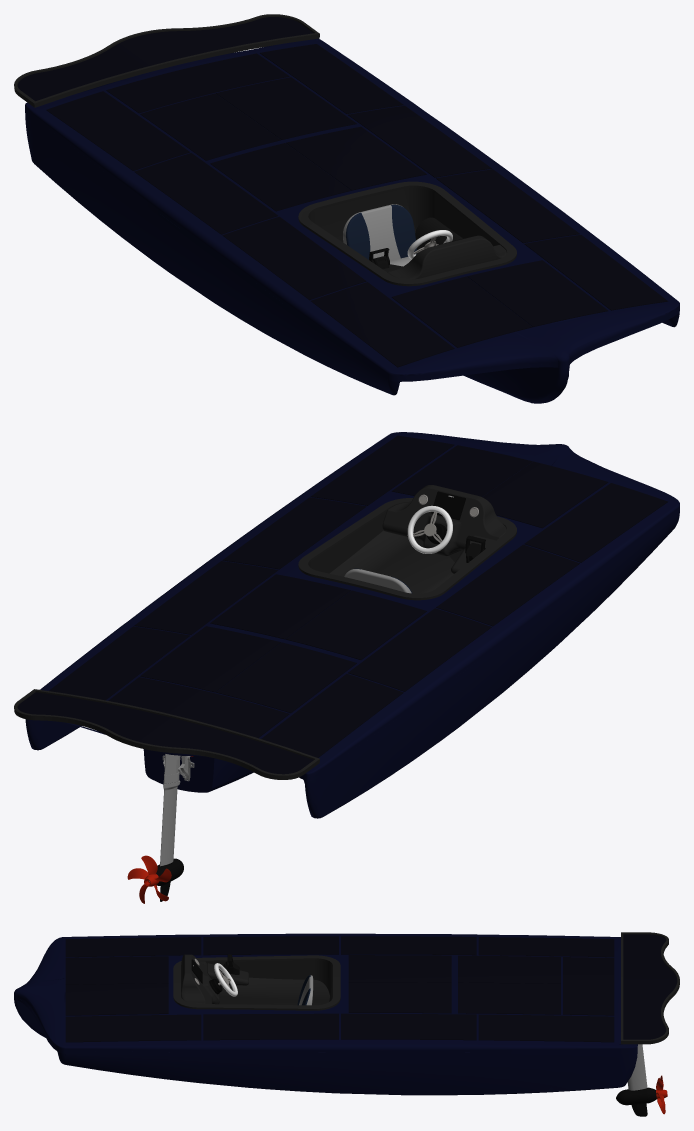
File: boat.obj
The picture shows the model from 3 angles, top to bottom: view 1: azimuth 30°, elevation 25°; view 2: azimuth 150°, elevation 25°; view 3: azimuth 270°, elevation 25°; orthographic projection. The views are drawn at different scales.
Visible parts, largest first — view 1: POWERboat_V5.010, POWERboat_V5.011, Cockpit.001, Solar_Spoiler.003, Solar_Panels005.003, Solar_Panels013.003, Solar_Panels004.003, Solar_Panels002.005, Solar_Panels012.003, Solar_Panels003.004, Solar_Panels010.003, Solar_Panels006.003 (+10 smaller); view 2: POWERboat_V5.010, POWERboat_V5.011, Cockpit.001, Solar_Spoiler.003, Solar_Panels012.003, Solar_Panels004.003, Solar_Panels013.003, Solar_Panels010.003, Solar_Panels005.003, Solar_Panels003.004, Solar_Panels014.003, Solar_Panels011.003 (+13 smaller); view 3: POWERboat_V5.011, POWERboat_V5.010, Cockpit.001, Solar_Spoiler.003, Solar_Panels.003, Solar_Panels009.003, Solar_Panels001.003, Solar_Panels008.003, Solar_Panels006.003, Solar_Panels007.005, Solar_Panels014.003, Solar_Panels011.003 (+14 smaller).
Boxes of the visible parts, x1,y1,x2,y2 form: POWERboat_V5.010: (25, 38, 679, 378); POWERboat_V5.011: (25, 108, 679, 403); Cockpit.001: (298, 181, 516, 286); Solar_Spoiler.003: (17, 17, 313, 101); Solar_Panels005.003: (311, 282, 454, 367); Solar_Panels013.003: (222, 216, 366, 300); Solar_Panels004.003: (134, 153, 277, 234); Solar_Panels002.005: (391, 276, 532, 347); Solar_Panels012.003: (46, 91, 189, 170); Solar_Panels003.004: (210, 143, 351, 211); Solar_Panels010.003: (140, 93, 280, 160); Solar_Panels006.003: (467, 260, 607, 326); POWERboat_V5.010: (40, 432, 679, 777); POWERboat_V5.011: (25, 509, 679, 818); Cockpit.001: (298, 498, 516, 600); Solar_Spoiler.003: (17, 692, 313, 774); Solar_Panels012.003: (261, 674, 403, 757); Solar_Panels004.003: (348, 608, 491, 691); Solar_Panels013.003: (436, 544, 579, 626); Solar_Panels010.003: (216, 642, 356, 713); Solar_Panels005.003: (524, 483, 667, 562); Solar_Panels003.004: (286, 590, 426, 659); Solar_Panels014.003: (140, 626, 280, 692); Solar_Panels011.003: (108, 677, 289, 738); POWERboat_V5.011: (14, 996, 637, 1095); POWERboat_V5.010: (14, 933, 637, 1052); Cockpit.001: (173, 955, 340, 1010); Solar_Spoiler.003: (623, 934, 677, 1039); Solar_Panels.003: (65, 1014, 201, 1042); Solar_Panels009.003: (478, 1014, 614, 1042); Solar_Panels001.003: (341, 1013, 476, 1040); Solar_Panels008.003: (203, 1013, 338, 1040); Solar_Panels006.003: (65, 983, 168, 1015); Solar_Panels007.005: (348, 982, 451, 1013); Solar_Panels014.003: (458, 982, 560, 1014); Solar_Panels011.003: (563, 957, 614, 1015).
Bounding box in the file's own units: 2.1 × 1.31 × 5.18.
